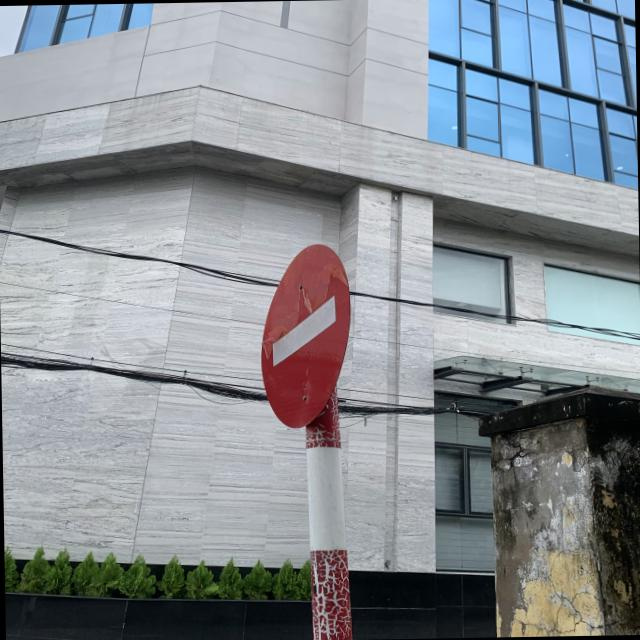Cam_Di_Nguoc_Chieu: (256, 241, 354, 430)
